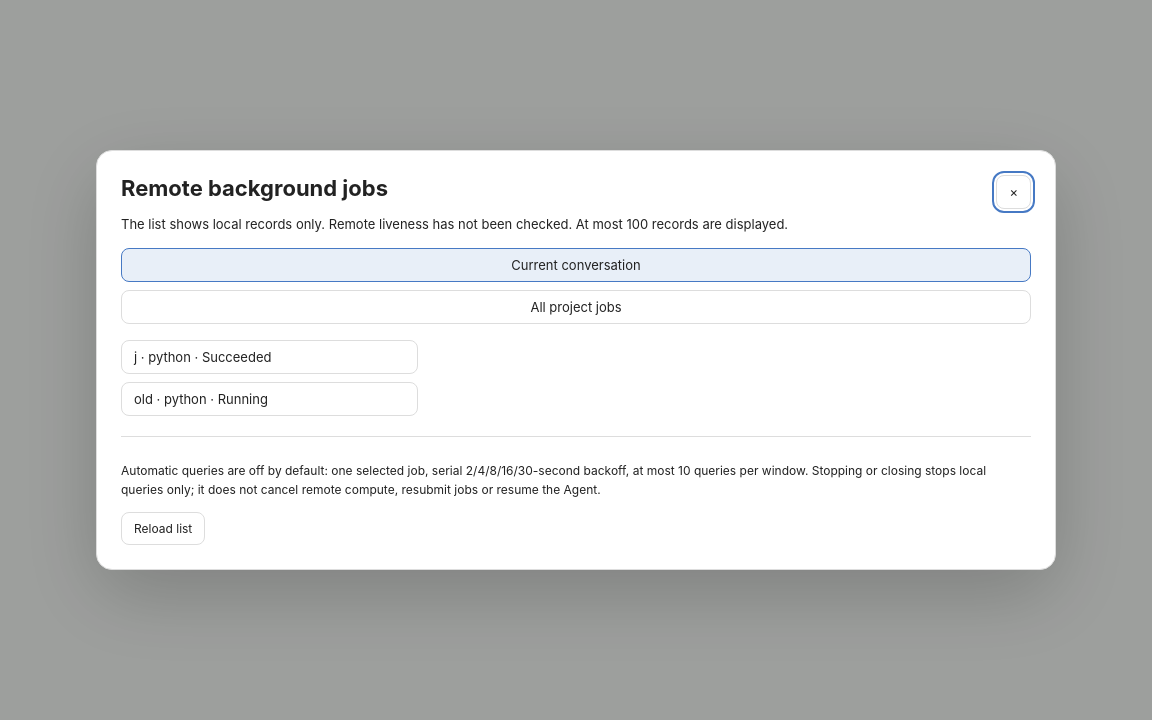
Scenario: explains eligibility and permits only local verification of a retained receipt
Click the button "j · python · Succeeded" at coordinates (269, 357), box [121, 340, 418, 374]
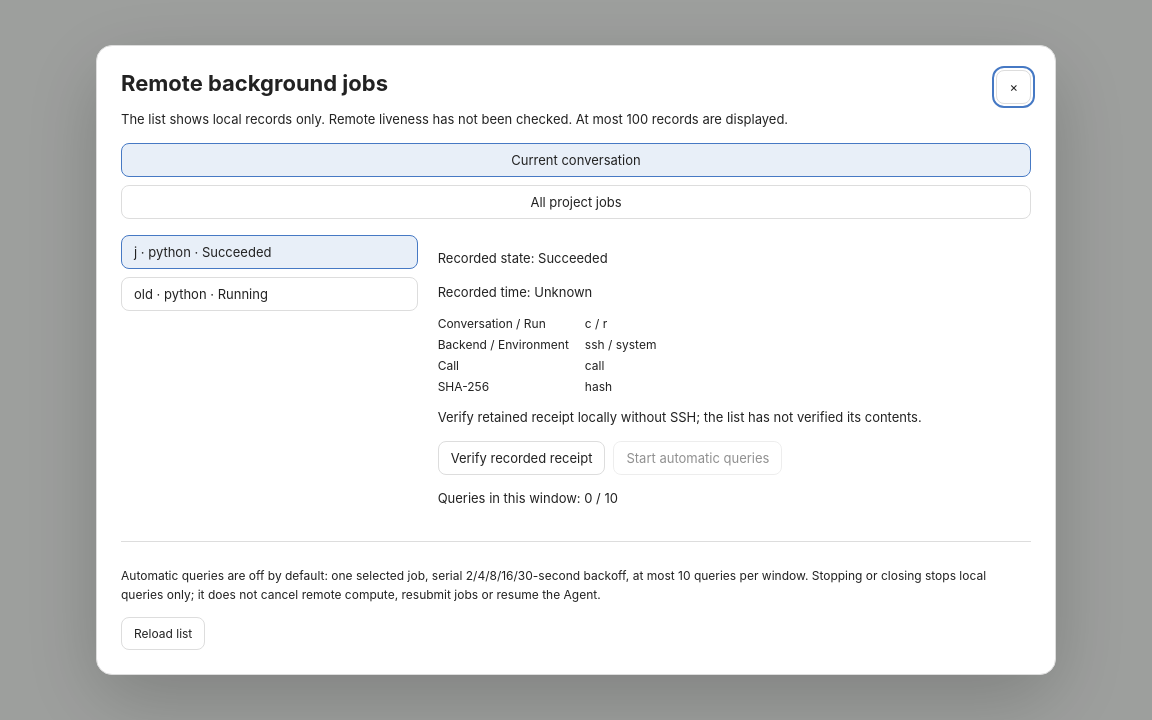
Expected: the text "Verify retained receipt locally" is shown, [438, 409, 922, 425]
Expected: the button "Start automatic queries" is disabled, [613, 440, 782, 474]
Expected: the button "Verify recorded receipt" is enabled, [438, 440, 606, 474]
Click the button "old · python · Running" at coordinates (269, 294), box [121, 277, 418, 311]
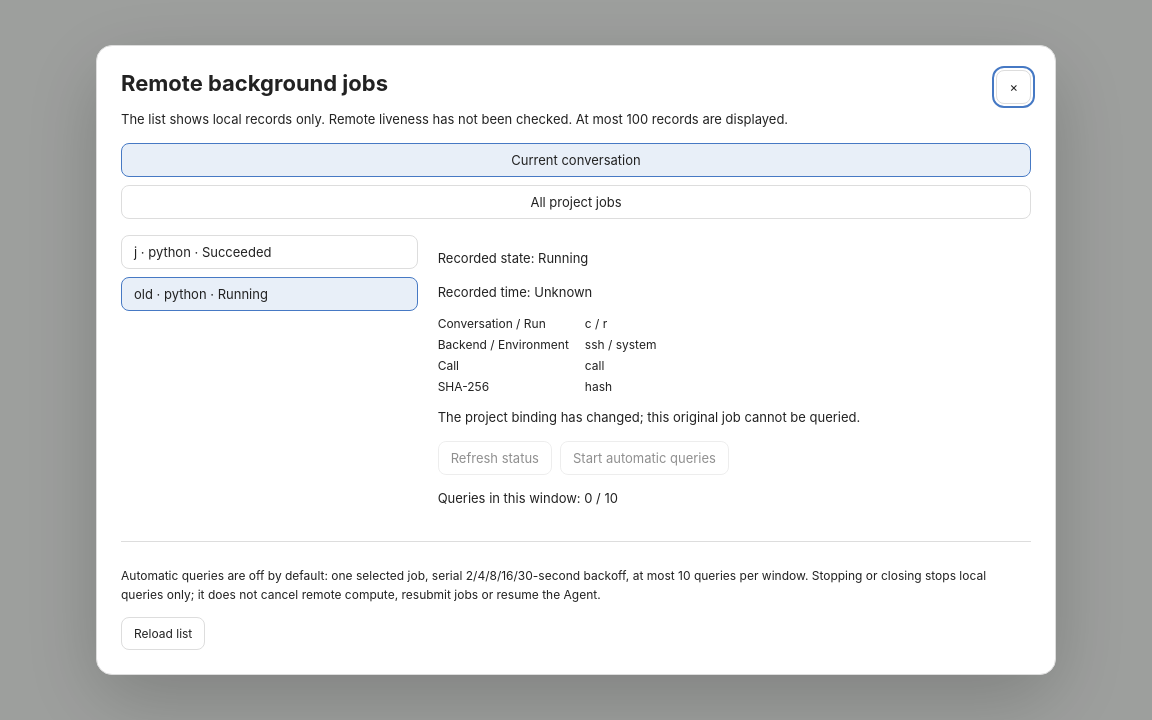
Expected: the button "Refresh status" is disabled, [438, 440, 552, 474]
Expected: the text "binding has changed" is shown, [438, 409, 860, 425]
